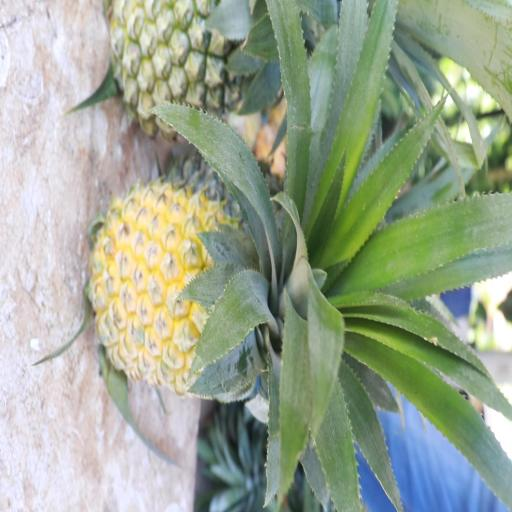------------------------------: (111, 0, 304, 126)
Pineapple - v8 v1: (98, 178, 331, 398)
